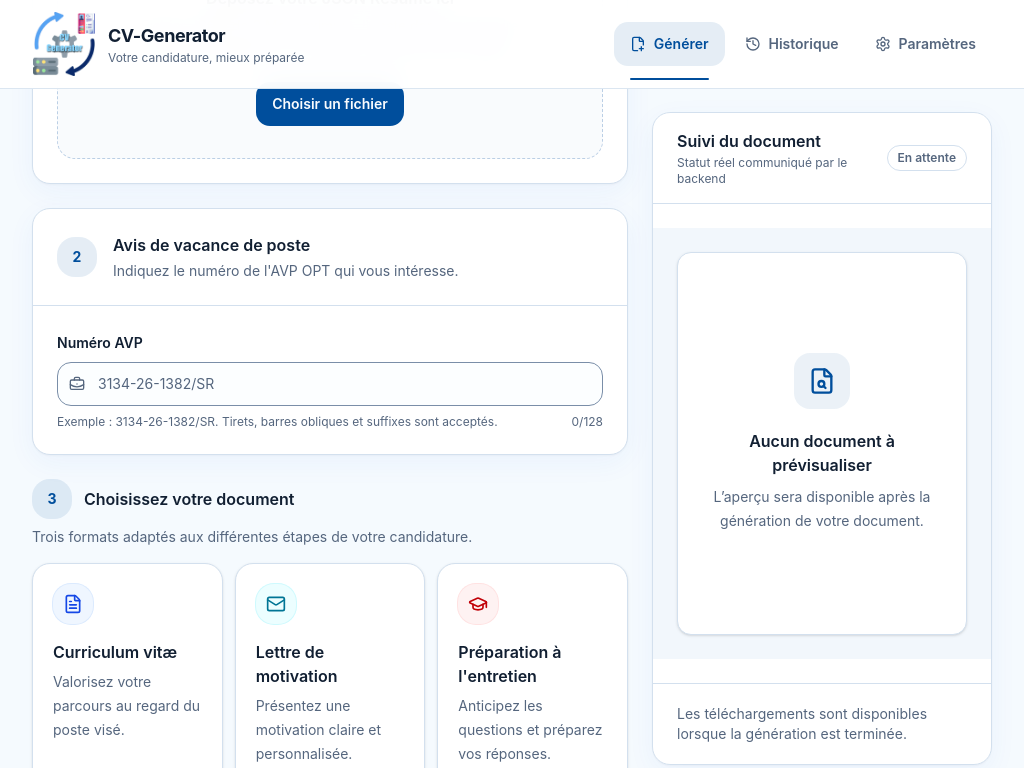
Test: préparation de la génération › valide un numéro AVP vide et limite sa longueur
The width and height of the screenshot is (1024, 768).
(page scrolled)
Click the field labelled "Numéro AVP" at (330, 384), box [57,362,603,406]
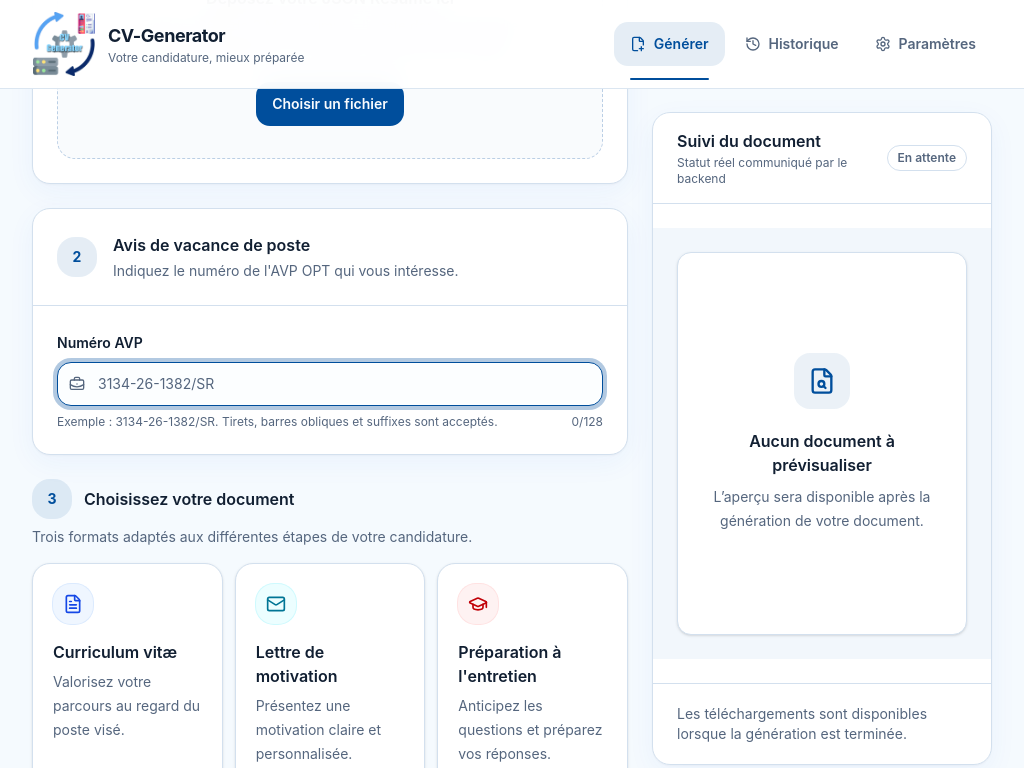
Press Tab
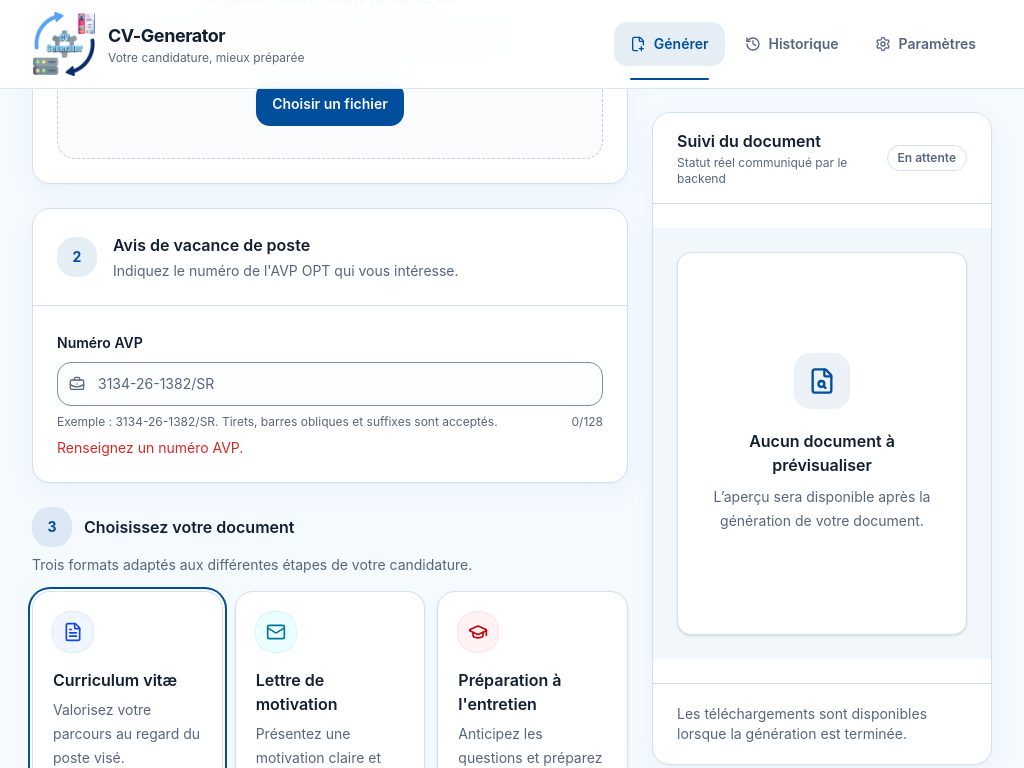
Now the text "Renseignez un numéro AVP." is shown, box [57,439,243,456]
